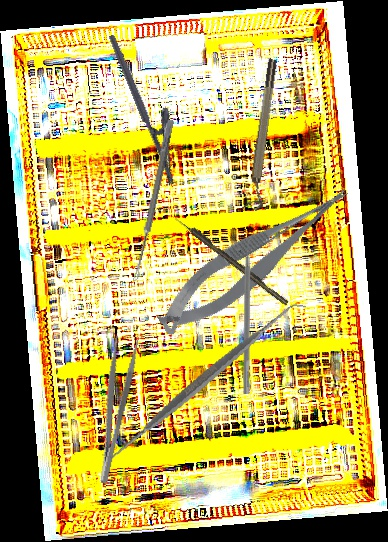Dressing Forceps: (84, 334, 142, 485)
Fixation Ring: (242, 58, 286, 212)
Hook Surgical: (173, 214, 290, 307)
Micro Scissor: (144, 179, 367, 342)
Needle Holder: (107, 25, 196, 187)
Spatula Surgical: (101, 273, 307, 488), (243, 235, 256, 394)
Surgical Spoon: (131, 118, 175, 284)
